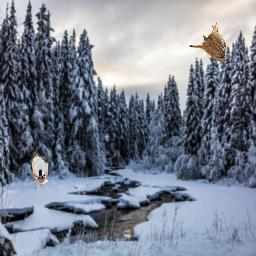Sparrow: (189, 22, 228, 62), (32, 150, 48, 184)
